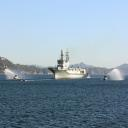Portanaves: (48, 46, 88, 81), (48, 47, 87, 81)
